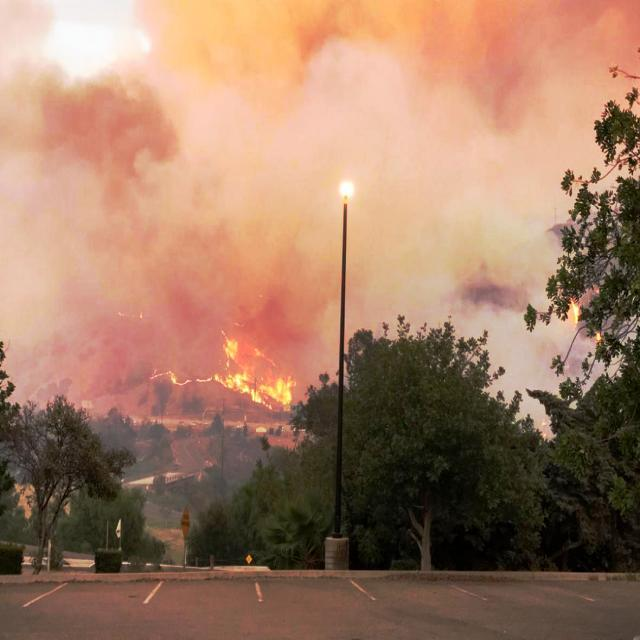api: (217, 321, 303, 426)
asap: (1, 1, 632, 429)
